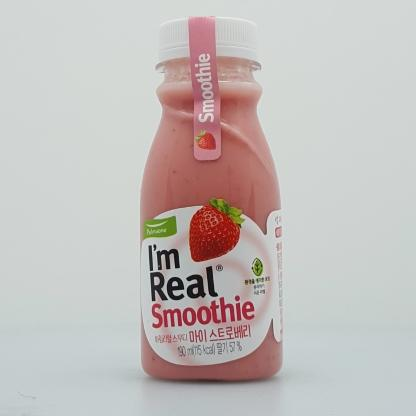--------------------190ML: (140, 15, 283, 381)
